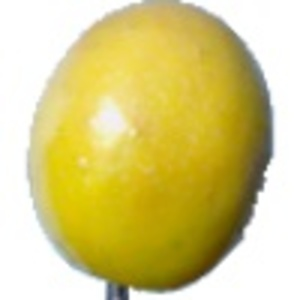maracujá: (28, 1, 277, 300)
